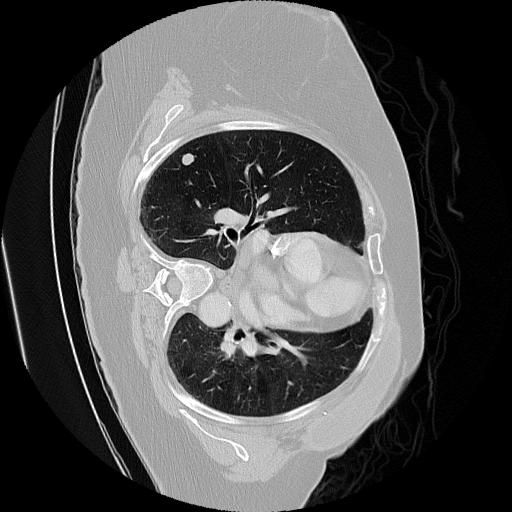nodule: (178, 148, 199, 169)
